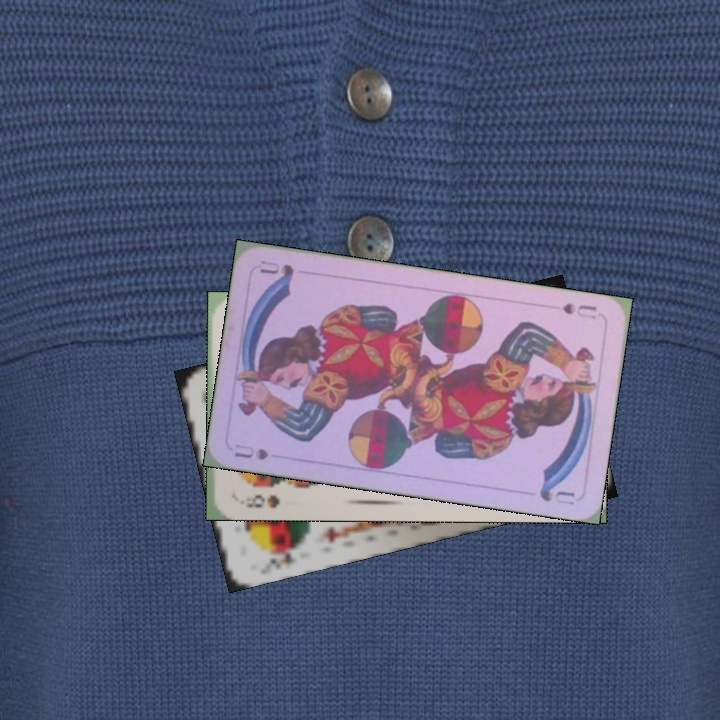S8: (242, 491, 282, 511)
SK: (259, 547, 298, 572)
SU: (230, 440, 271, 463), (559, 299, 599, 322)
